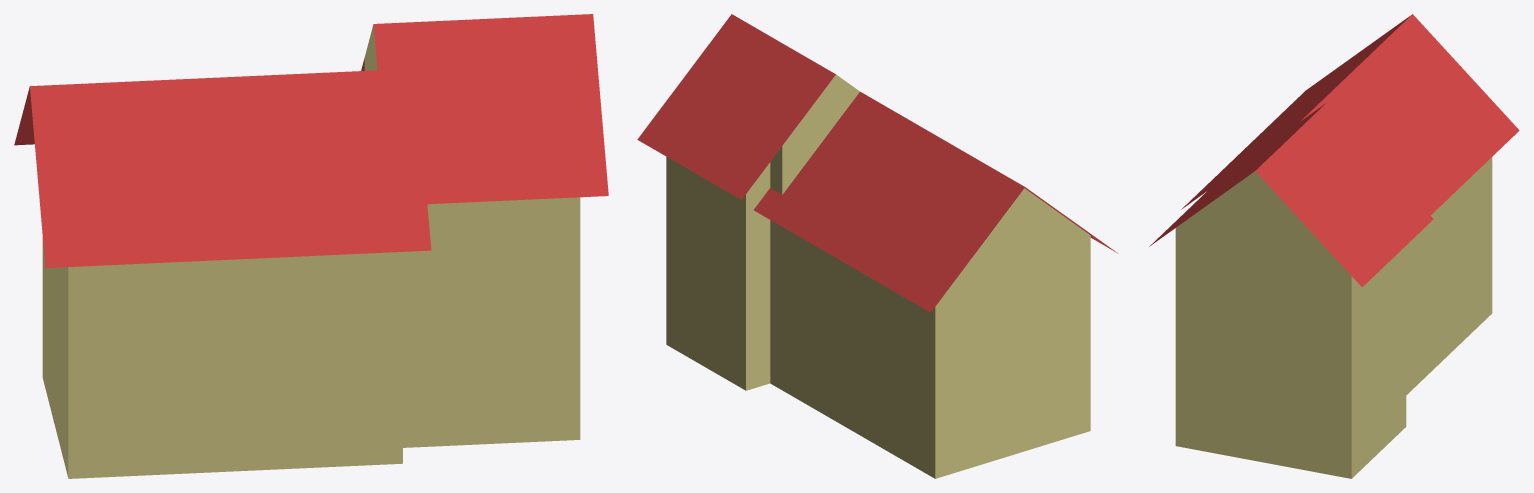
3 views of the same model, side by side, from view 1: azimuth 30°, elevation 25°; view 2: azimuth 150°, elevation 25°; view 3: azimuth 270°, elevation 25° (orthographic). The views are drawn at different scales.
Size of the model in its own units: 25.27 by 17.9 by 15.93.
